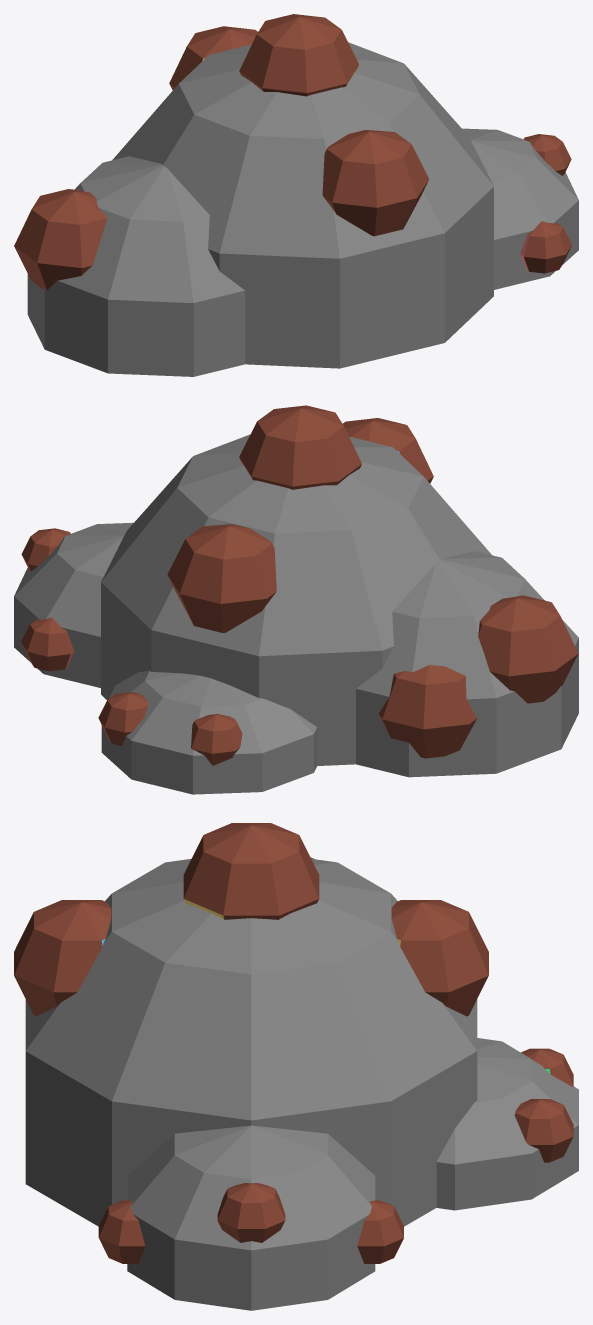
File: TestOre.gltf
The picture shows the model from 3 angles, top to bottom: view 1: azimuth 30°, elevation 25°; view 2: azimuth 150°, elevation 25°; view 3: azimuth 270°, elevation 25°; orthographic projection. The views are drawn at different scales.
Visible parts, largest first — view 1: sphere; view 2: sphere; view 3: sphere.
Part boxes in pixels (left/top/right/bottom): sphere: left=14, top=14, right=578, bottom=376; sphere: left=14, top=405, right=578, bottom=794; sphere: left=14, top=823, right=578, bottom=1310.
Bounding box in the file's own units: 0.6875 × 0.3332 × 0.5205.
Materials: 1 (1 with a texture image).
